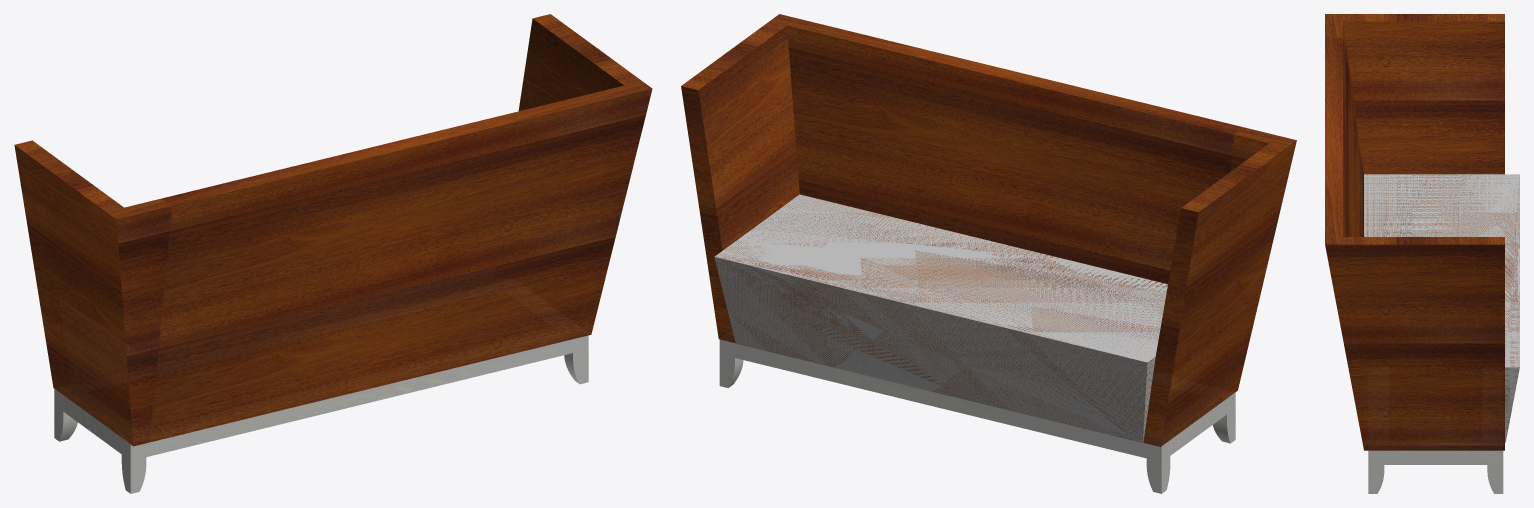
3 views of the same model, side by side, from view 1: azimuth 30°, elevation 25°; view 2: azimuth 150°, elevation 25°; view 3: azimuth 270°, elevation 25° (orthographic). The views are drawn at different scales.
Parts seen in each view (by area): view 1: mesh16_mesh16-geometry, mesh1_mesh1-geometry; view 2: mesh16_mesh16-geometry, mesh1_mesh1-geometry; view 3: mesh16_mesh16-geometry, mesh1_mesh1-geometry.
Boxes of the visible parts, box(x1,y1,x2,y2) form: mesh16_mesh16-geometry: box(14, 14, 652, 446); mesh1_mesh1-geometry: box(54, 335, 588, 493); mesh16_mesh16-geometry: box(681, 14, 1296, 446); mesh1_mesh1-geometry: box(719, 339, 1235, 493); mesh16_mesh16-geometry: box(1325, 14, 1519, 450); mesh1_mesh1-geometry: box(1368, 450, 1503, 493).
Size of the model in its own units: 0.84 by 0.4521 by 0.2999.
